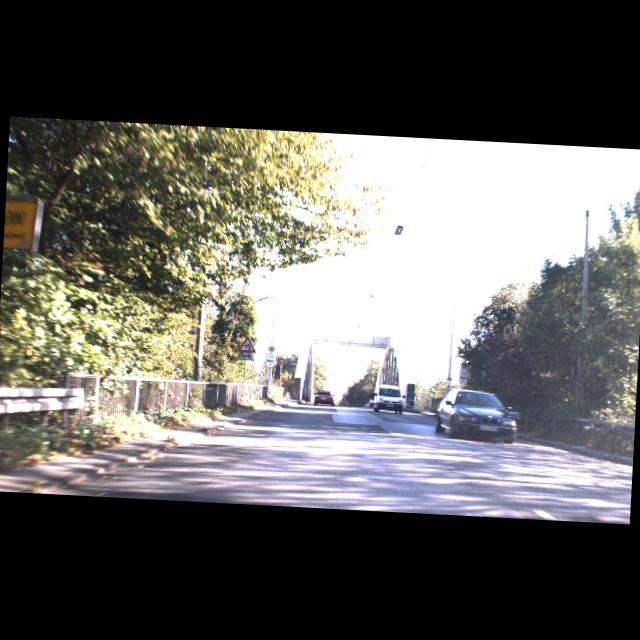danger: (238, 334, 257, 352)
